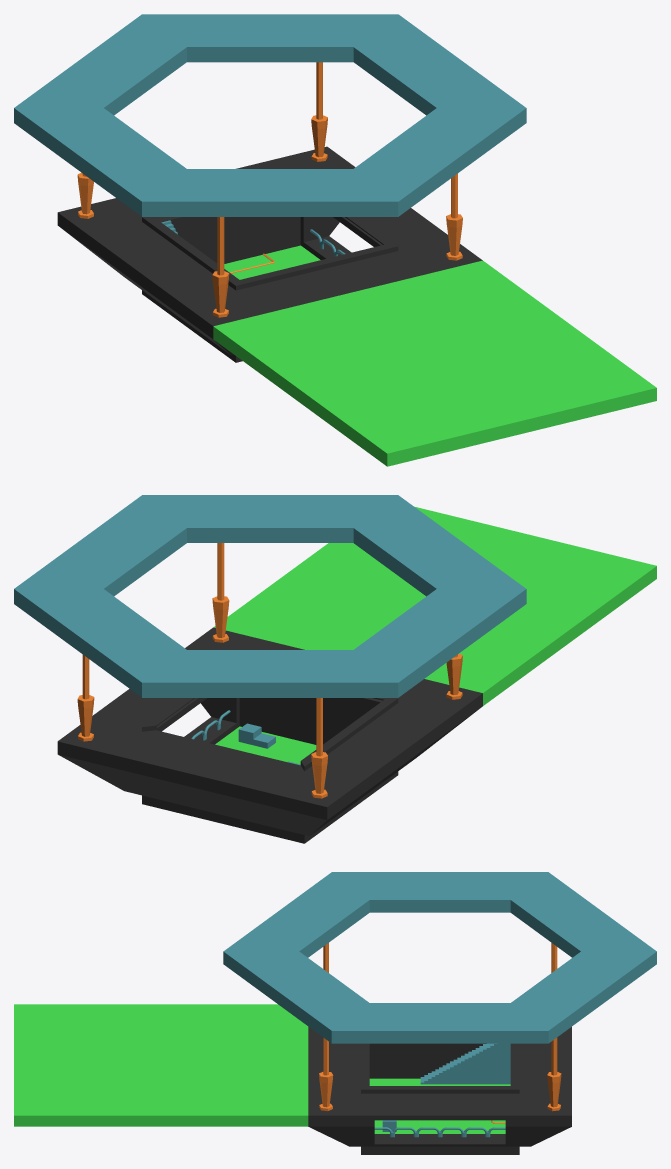
The model's file is devlevel.fbx.
The picture shows the model from 3 angles, top to bottom: view 1: azimuth 30°, elevation 25°; view 2: azimuth 150°, elevation 25°; view 3: azimuth 270°, elevation 25°; orthographic projection. The views are drawn at different scales.
Visible parts, largest first — view 1: Everything, Cylinder.001, Cylinder; view 2: Everything, Cylinder.001, Cylinder; view 3: Everything, Cylinder.001, Stairs, Cylinder, Plane.
Part boxes in pixels (x1,y1,x2,y2): Everything: [57, 146, 656, 466]; Cylinder.001: [14, 14, 526, 216]; Cylinder: [77, 62, 462, 317]; Everything: [57, 506, 656, 843]; Cylinder.001: [14, 495, 526, 697]; Cylinder: [77, 543, 462, 798]; Everything: [14, 1004, 571, 1154]; Cylinder.001: [223, 872, 656, 1043]; Stairs: [420, 1043, 510, 1084]; Cylinder: [319, 943, 561, 1111]; Plane: [374, 1127, 505, 1137].
Size of what is drawn, in the model's own units: 5317 by 2654 by 9105.
